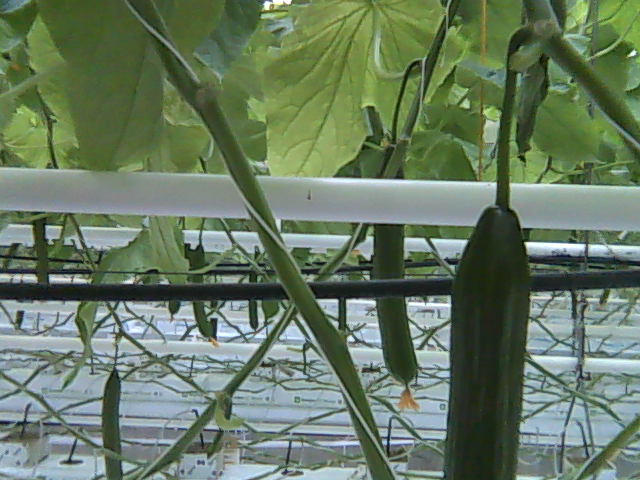concombre: (439, 191, 535, 480)
